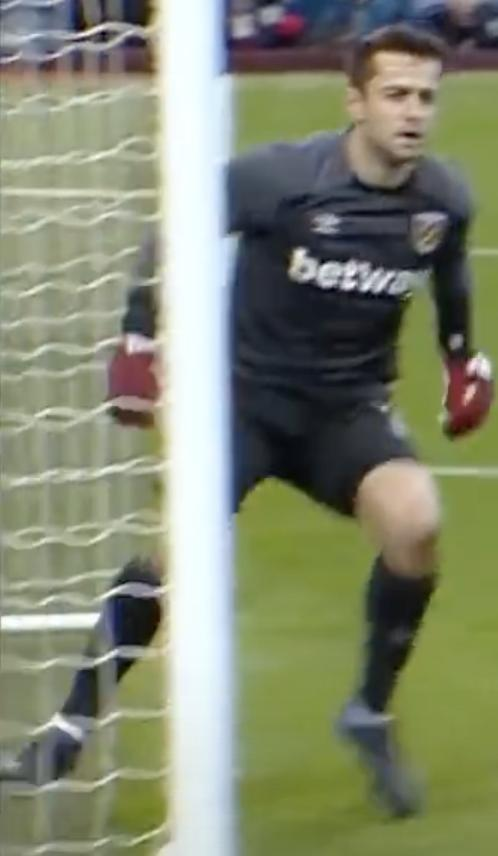goalkeeper: (0, 6, 498, 856)
